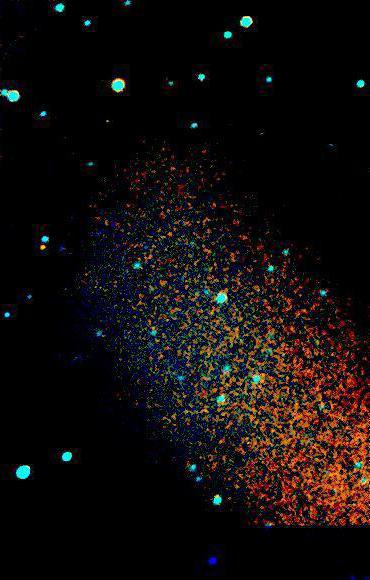star: (28, 231, 58, 261)
